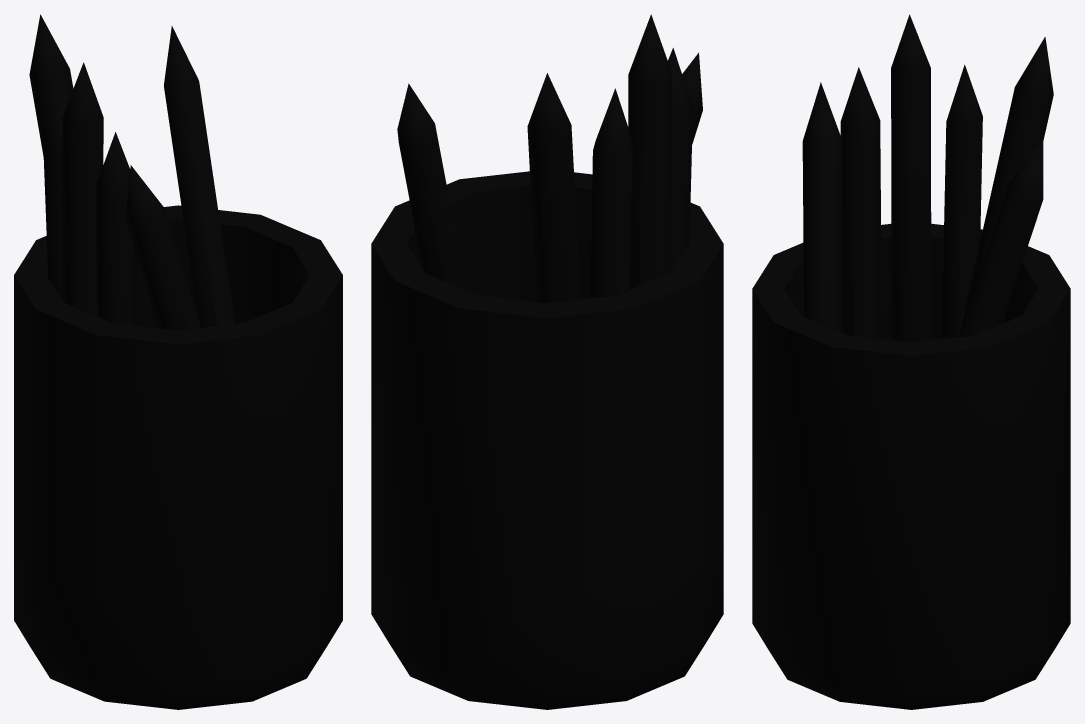
3 renders of one model, left to right at view 1: azimuth 30°, elevation 25°; view 2: azimuth 150°, elevation 25°; view 3: azimuth 270°, elevation 25°, orthographic. The views are drawn at different scales.
Parts seen in each view (by area): view 1: Joint_0_Object_1, Joint_0_Object_6, Joint_0_Object_2, Joint_0_Object_4, Joint_0_Object_5, Joint_0_Object_3, Joint_0_Object_0; view 2: Joint_0_Object_1, Joint_0_Object_2, Joint_0_Object_0, Joint_0_Object_3, Joint_0_Object_6, Joint_0_Object_4, Joint_0_Object_5; view 3: Joint_0_Object_1, Joint_0_Object_2, Joint_0_Object_4, Joint_0_Object_5, Joint_0_Object_3, Joint_0_Object_6, Joint_0_Object_0.
Part boxes in pixels (<box>): Joint_0_Object_1: <box>14,205,342,709</box>; Joint_0_Object_6: <box>164,26,234,327</box>; Joint_0_Object_2: <box>62,62,103,316</box>; Joint_0_Object_4: <box>95,132,138,325</box>; Joint_0_Object_5: <box>125,165,200,330</box>; Joint_0_Object_3: <box>43,89,66,298</box>; Joint_0_Object_0: <box>29,14,73,156</box>; Joint_0_Object_1: <box>371,171,723,709</box>; Joint_0_Object_2: <box>628,14,672,289</box>; Joint_0_Object_0: <box>527,73,580,303</box>; Joint_0_Object_3: <box>590,88,633,298</box>; Joint_0_Object_6: <box>397,83,466,290</box>; Joint_0_Object_4: <box>668,48,692,268</box>; Joint_0_Object_5: <box>682,52,702,144</box>; Joint_0_Object_1: <box>752,223,1070,709</box>; Joint_0_Object_2: <box>891,14,931,342</box>; Joint_0_Object_4: <box>840,67,881,339</box>; Joint_0_Object_5: <box>802,82,843,333</box>; Joint_0_Object_3: <box>941,64,982,338</box>; Joint_0_Object_6: <box>958,139,1043,337</box>; Joint_0_Object_0: <box>960,37,1053,329</box>.
Size of the model in its own units: 160 by 327 by 160.
1 material, 1 textured.
